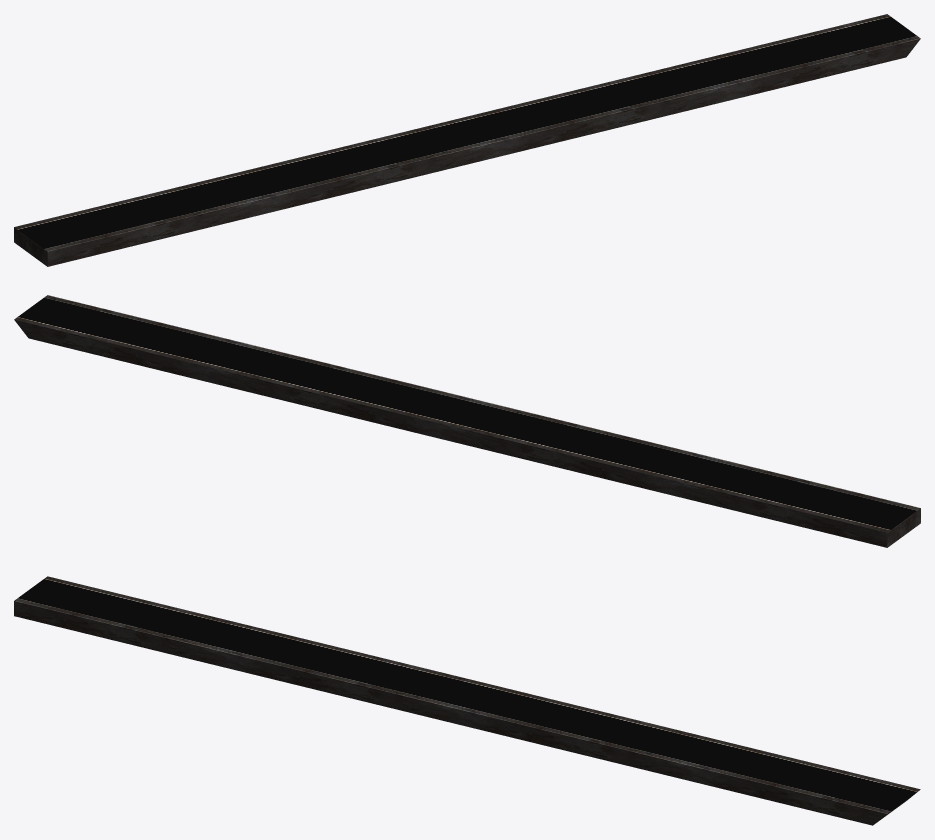
Rendered from newsticker_left.fbx.
3 views of the same model, one above another, from view 1: azimuth 30°, elevation 25°; view 2: azimuth 150°, elevation 25°; view 3: azimuth 330°, elevation 25° (orthographic).
Visible parts, largest first — view 1: mesh_0; view 2: mesh_0; view 3: mesh_0.
Boxes of the visible parts, x1,y1,x2,y2 form: mesh_0: (14, 14, 920, 266); mesh_0: (14, 295, 920, 547); mesh_0: (14, 576, 920, 825).
Bounding box in the file's own units: 3000 × 50 × 200.
1 material, 1 textured.
